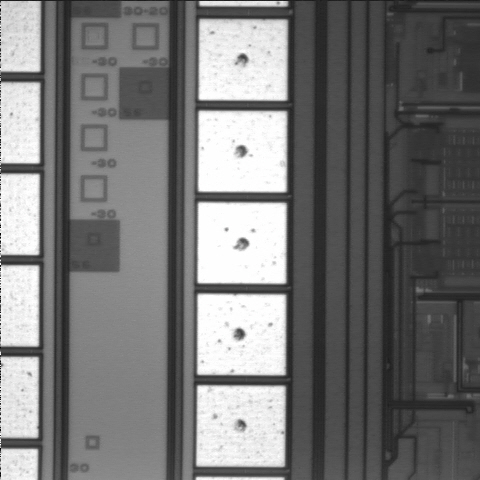pad: (197, 202, 287, 284), (196, 385, 285, 467), (199, 19, 287, 101), (198, 111, 287, 192), (197, 294, 286, 375)
